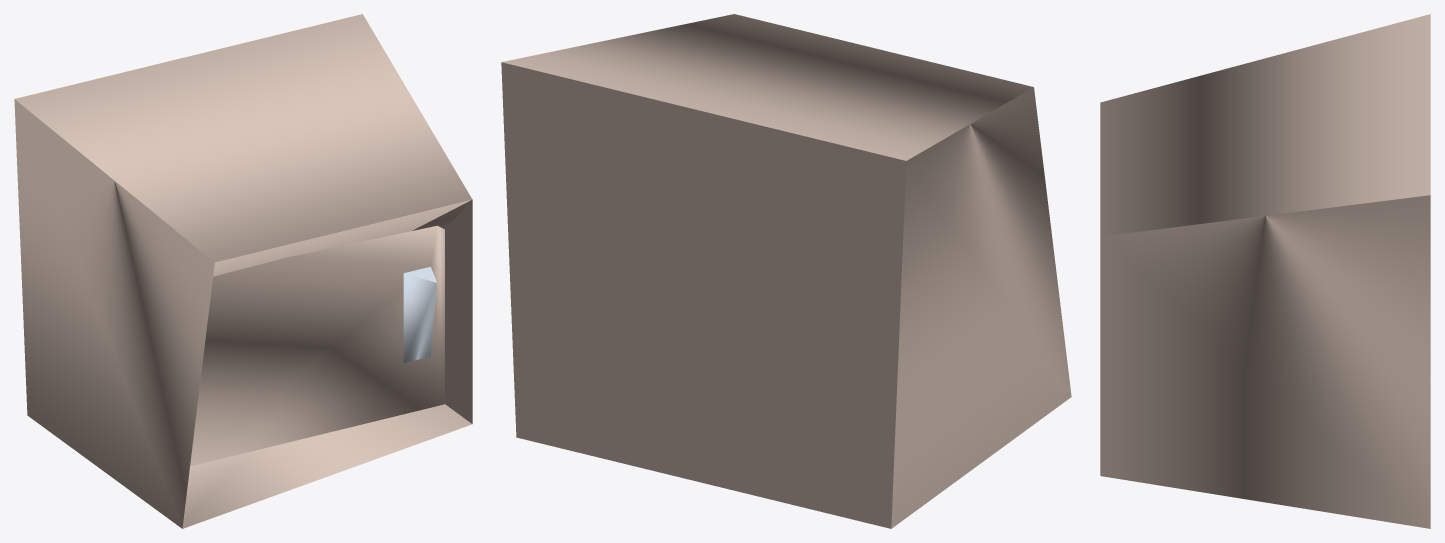
Rendered from cabinetBed.glb.
3 views of the same model, side by side, from view 1: azimuth 30°, elevation 25°; view 2: azimuth 150°, elevation 25°; view 3: azimuth 270°, elevation 25° (orthographic). The views are drawn at different scales.
Visible parts, largest first — view 1: Mesh cabinetBed, door; view 2: Mesh cabinetBed; view 3: Mesh cabinetBed.
Boxes of the visible parts, left/top/right/bottom form: Mesh cabinetBed: left=14, top=14, right=472, bottom=528; door: left=190, top=225, right=444, bottom=466; Mesh cabinetBed: left=501, top=14, right=1071, bottom=528; Mesh cabinetBed: left=1100, top=14, right=1430, bottom=528.
Size of the model in its own units: 0.266 by 0.2332 by 0.2051.
